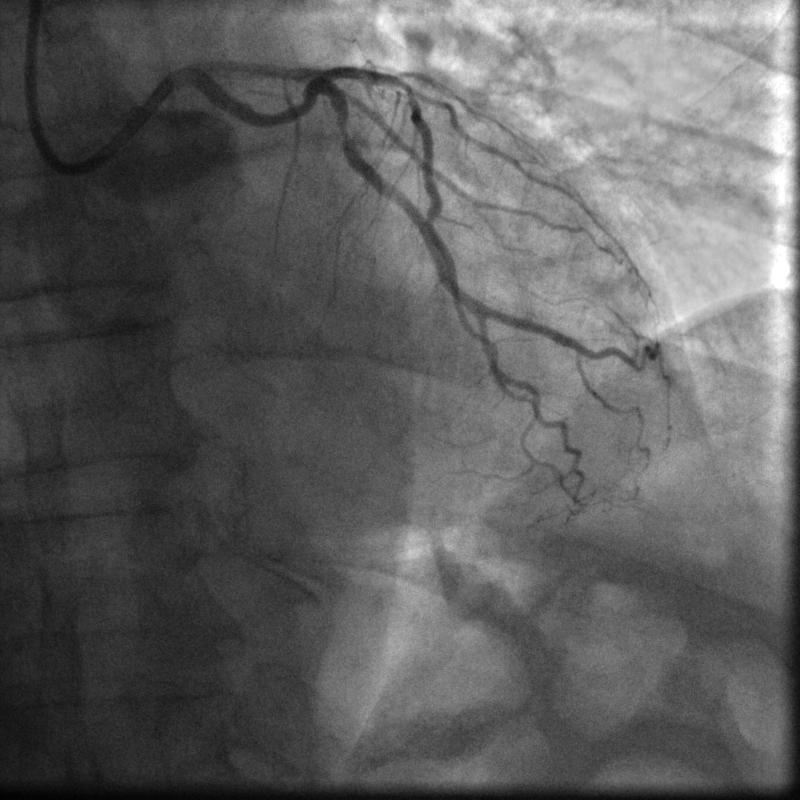Stenosis: (337, 122, 351, 142)
